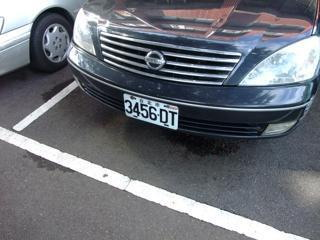plate: (121, 91, 181, 132)
